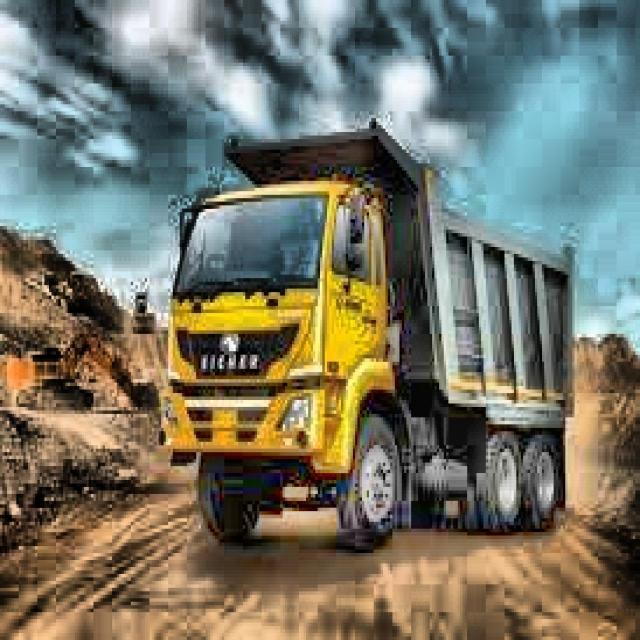dump_truck: (164, 128, 577, 550)
